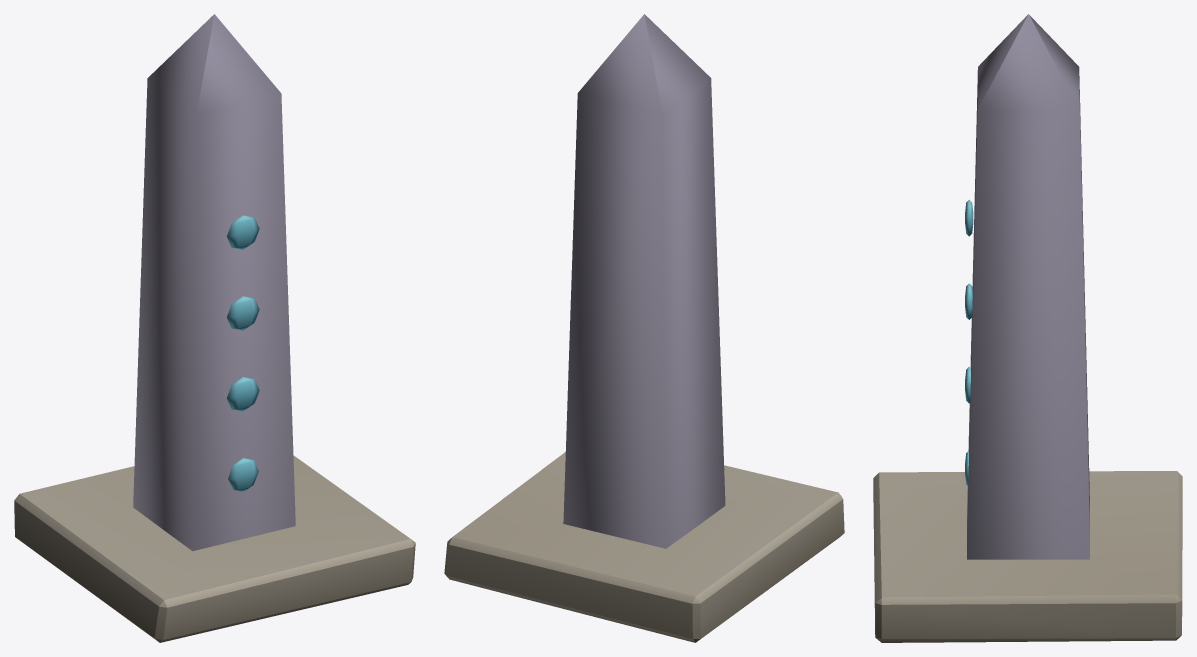
File: world_landmark_obelisk_a.fbx
3 renders of one model, left to right at view 1: azimuth 30°, elevation 25°; view 2: azimuth 150°, elevation 25°; view 3: azimuth 270°, elevation 25°, orthographic. The views are drawn at different scales.
Parts seen in each view (by area): view 1: world_landmark_obelisk_a; view 2: world_landmark_obelisk_a; view 3: world_landmark_obelisk_a.
Boxes of the visible parts, x1,y1,x2,y2 form: world_landmark_obelisk_a: (14,14,415,642); world_landmark_obelisk_a: (444,14,844,642); world_landmark_obelisk_a: (873,14,1182,642).
Bounding box in the file's own units: 304 × 611 × 302.
